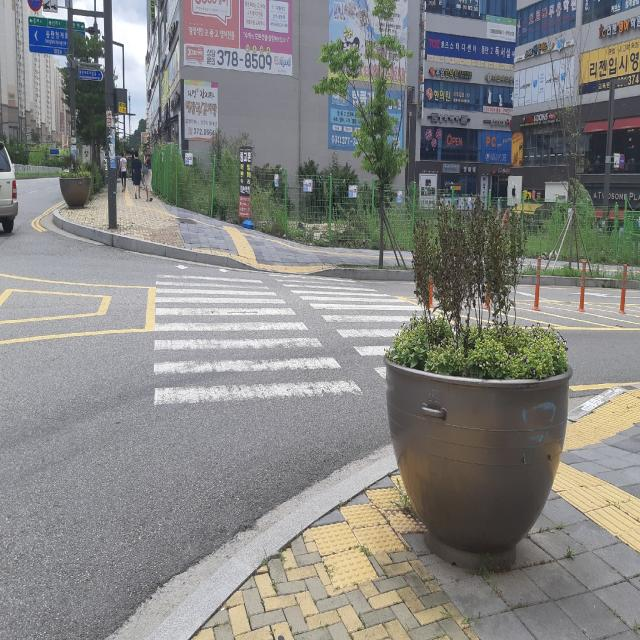횡단보도: (153, 262, 458, 406)
